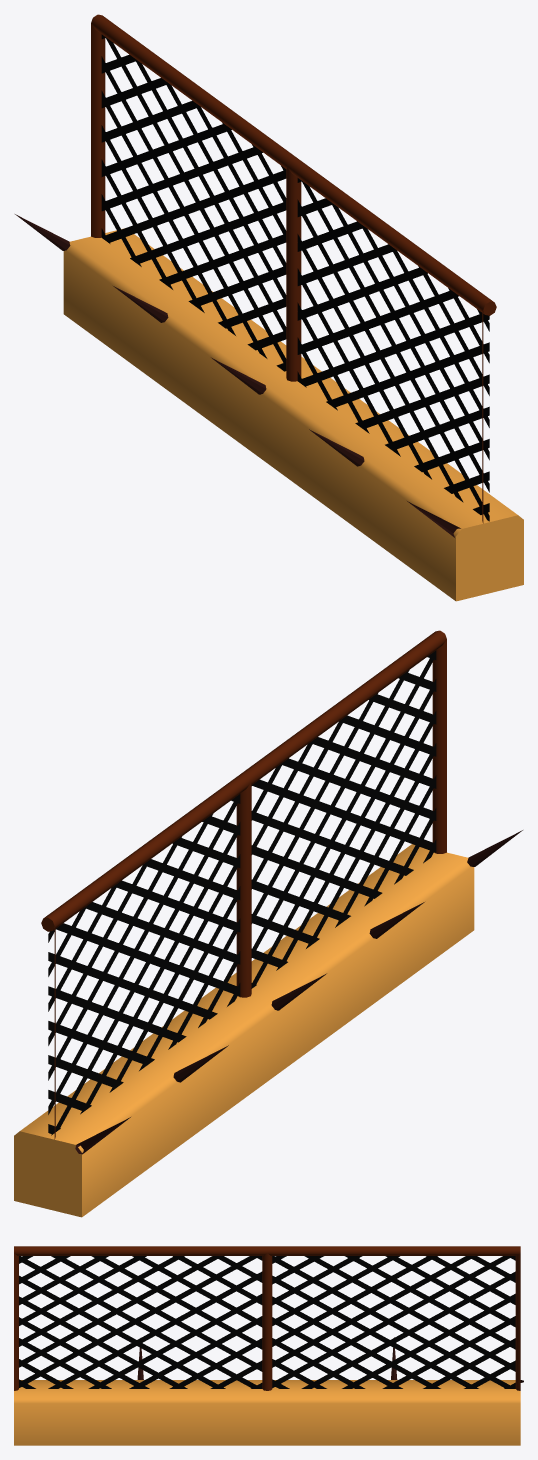
The model's file is zabor.fbx.
The picture shows the model from 3 angles, top to bottom: view 1: azimuth 30°, elevation 25°; view 2: azimuth 150°, elevation 25°; view 3: azimuth 270°, elevation 25°; orthographic projection. The views are drawn at different scales.
Parts seen in each view (by area): view 1: zabor; view 2: zabor; view 3: zabor.
Boxes of the visible parts, bbox=[...] form: zabor: bbox=[15, 14, 523, 601]; zabor: bbox=[14, 630, 522, 1217]; zabor: bbox=[14, 1246, 523, 1445].
Bounding box in the file's own units: 1.73 × 4.1 × 10.06.
